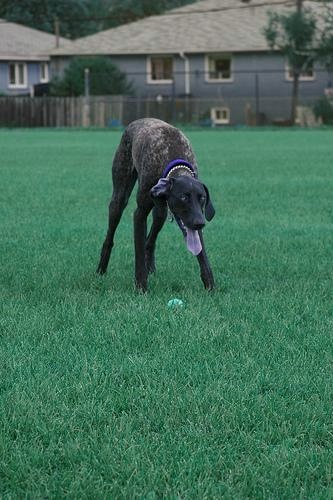dog-german_shorthaired: (149, 177, 215, 255)
